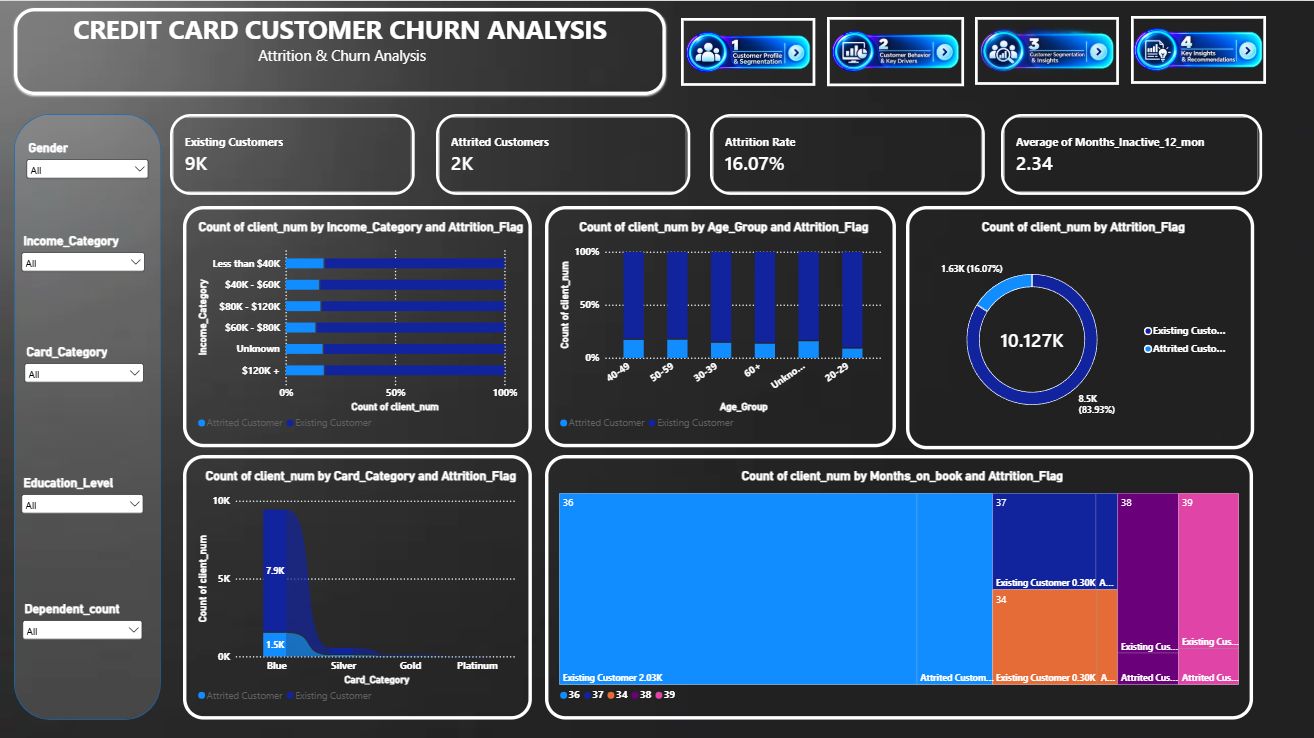

What the dashboard file says about the page in this screenshot:
{"tool":"powerbi","page":{"name":" Page 3","canvas":[1920,1080],"ordinal":2},"visuals":[{"type":"textbox","box":[21.9,10.2,951.2,126.9],"z":0},{"type":"image","box":[995,24.8,195.5,99.2],"z":1000},{"type":"image","box":[1208.6,22.9,199.9,100.7],"z":2000},{"type":"image","box":[1424.3,22.9,210.1,99.2],"z":3000},{"type":"image","box":[1651.4,21.4,197,99.2],"z":4000},{"type":"shape","box":[21.9,164.9,214.5,884.1],"z":5000},{"type":"slicer","fields":{"Values":["banking_db credit_card_churn.Gender"]},"box":[35,202.8,188.2,159],"z":6000},{"type":"slicer","fields":{"Values":["banking_db credit_card_churn.Income_Category"]},"box":[27.7,338.5,189.7,148.8],"z":7000},{"type":"slicer","fields":{"Values":["banking_db credit_card_churn.Card_Category"]},"box":[32.1,500.4,183.8,176.5],"z":8000},{"type":"slicer","fields":{"Values":["banking_db credit_card_churn.Education_Level"]},"box":[27.7,691.6,188.2,159],"z":9000},{"type":"slicer","fields":{"Values":["banking_db credit_card_churn.Dependent_count"]},"box":[29.2,875.4,185.3,163.4],"z":10000},{"type":"cardVisual","fields":{"Data":["banking_db credit_card_churn.Attrited Customers"]},"box":[637.6,164.9,370.6,118.2],"z":11000},{"type":"cardVisual","fields":{"Data":["banking_db credit_card_churn.Attrition Rate"]},"box":[1037.3,164.9,401.2,118.2],"z":12000},{"type":"cardVisual","fields":{"Data":["Avg(banking_db credit_card_churn.Months_Inactive_12_mon)"]},"box":[1461.4,164.3,380.8,118.2],"z":13000},{"type":"hundredPercentStackedBarChart","fields":{"Category":["banking_db credit_card_churn.Income_Category"],"Series":["banking_db credit_card_churn.Attrition_Flag"],"Y":["Count(banking_db credit_card_churn.client_num)"]},"box":[268.6,298.6,509.2,351.6],"z":14000},{"type":"hundredPercentStackedColumnChart","fields":{"Category":["banking_db credit_card_churn.Age_Group"],"Series":["banking_db credit_card_churn.Attrition_Flag"],"Y":["Count(banking_db credit_card_churn.client_num)"]},"box":[797.1,298.6,512.1,351.6],"z":15000},{"type":"donutChart","fields":{"Category":["banking_db credit_card_churn.Attrition_Flag"],"Y":["Count(banking_db credit_card_churn.client_num)"]},"box":[1322.9,298.6,507.7,354.5],"z":16000},{"type":"ribbonChart","fields":{"Category":["banking_db credit_card_churn.Card_Category"],"Series":["banking_db credit_card_churn.Attrition_Flag"],"Y":["Count(banking_db credit_card_churn.client_num)"]},"box":[268.6,662.9,509,386],"z":17000},{"type":"cardVisual","fields":{"Data":["banking_db credit_card_churn.Existing Customers"]},"box":[249.5,164.9,357.4,118.2],"z":18000},{"type":"treemap","fields":{"Details":["banking_db credit_card_churn.Attrition_Flag"],"Group":["banking_db credit_card_churn.Months_on_book"],"Values":["Count(banking_db credit_card_churn.client_num)"]},"box":[797.1,662.9,1032.9,385.7],"z":19000}]}

Visuals, with their boxes in screenshot pixels (x1, y1, x2, y2), scaled from the page's 1920x1080 canvas onto the 1314x738 screenshot:
textbox: [x1=15, y1=7, x2=666, y2=94]
image: [x1=681, y1=17, x2=815, y2=85]
image: [x1=827, y1=16, x2=964, y2=84]
image: [x1=975, y1=16, x2=1119, y2=83]
image: [x1=1130, y1=15, x2=1265, y2=82]
shape: [x1=15, y1=113, x2=162, y2=717]
slicer - banking_db credit_card_churn.Gender: [x1=24, y1=139, x2=153, y2=247]
slicer - banking_db credit_card_churn.Income_Category: [x1=19, y1=231, x2=149, y2=333]
slicer - banking_db credit_card_churn.Card_Category: [x1=22, y1=342, x2=148, y2=463]
slicer - banking_db credit_card_churn.Education_Level: [x1=19, y1=473, x2=148, y2=581]
slicer - banking_db credit_card_churn.Dependent_count: [x1=20, y1=598, x2=147, y2=710]
cardVisual - banking_db credit_card_churn.Attrited Customers: [x1=436, y1=113, x2=690, y2=193]
cardVisual - banking_db credit_card_churn.Attrition Rate: [x1=710, y1=113, x2=984, y2=193]
cardVisual - Avg(banking_db credit_card_churn.Months_Inactive_12_mon): [x1=1000, y1=112, x2=1261, y2=193]
hundredPercentStackedBarChart - banking_db credit_card_churn.Income_Category x banking_db credit_card_churn.Attrition_Flag: [x1=184, y1=204, x2=532, y2=444]
hundredPercentStackedColumnChart - banking_db credit_card_churn.Age_Group x banking_db credit_card_churn.Attrition_Flag: [x1=546, y1=204, x2=896, y2=444]
donutChart - banking_db credit_card_churn.Attrition_Flag x Count(banking_db credit_card_churn.client_num): [x1=905, y1=204, x2=1253, y2=446]
ribbonChart - banking_db credit_card_churn.Card_Category x banking_db credit_card_churn.Attrition_Flag: [x1=184, y1=453, x2=532, y2=717]
cardVisual - banking_db credit_card_churn.Existing Customers: [x1=171, y1=113, x2=415, y2=193]
treemap - banking_db credit_card_churn.Attrition_Flag x banking_db credit_card_churn.Months_on_book: [x1=546, y1=453, x2=1252, y2=717]
